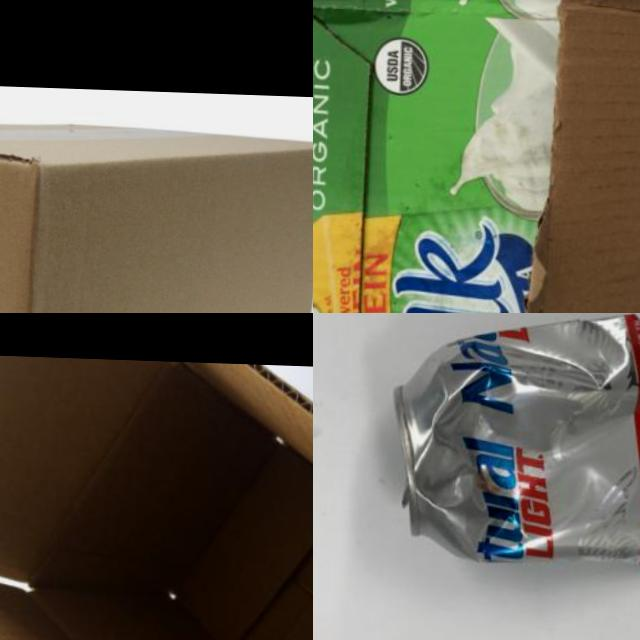garrafa plástica: (0, 112, 313, 313)
lata: (385, 313, 640, 571)
papelão: (313, 0, 640, 313), (0, 353, 313, 640)
